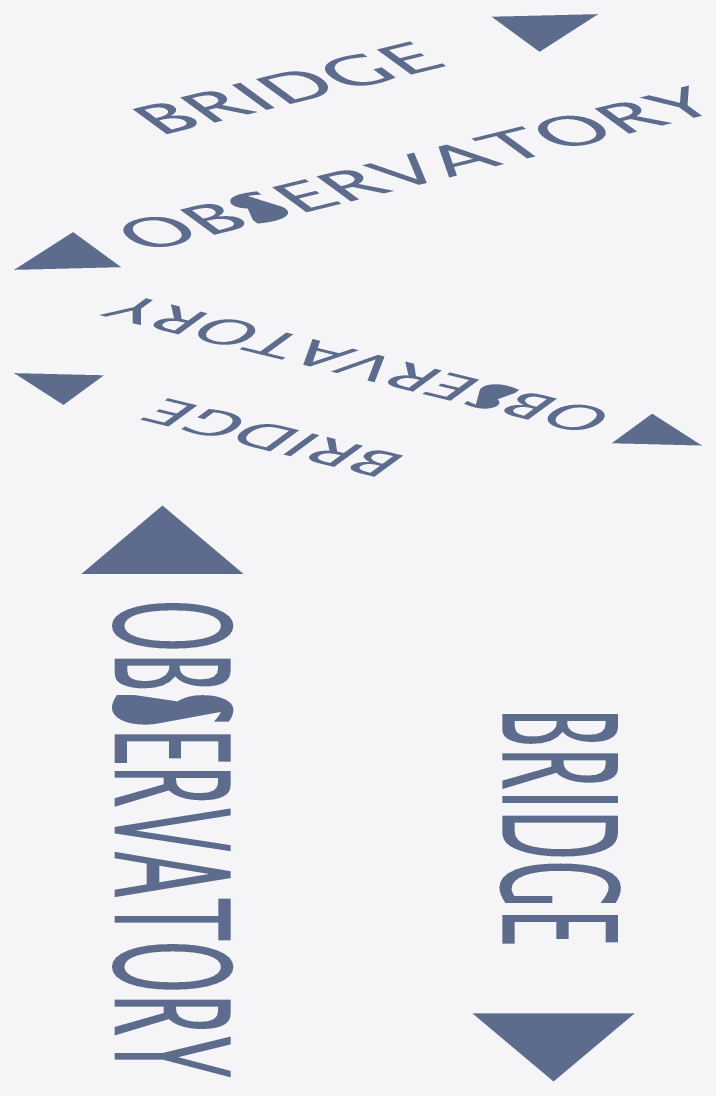
File: Bridge_Observatory.fbx
3 renders of one model, top to bottom at view 1: azimuth 30°, elevation 25°; view 2: azimuth 150°, elevation 25°; view 3: azimuth 270°, elevation 25°, orthographic. The views are drawn at different scales.
Parts seen in each view (by area): view 1: Bridge_Observatory; view 2: Bridge_Observatory; view 3: Bridge_Observatory.
Boxes of the visible parts, left/top/right/bottom form: Bridge_Observatory: left=14, top=14, right=701, bottom=269; Bridge_Observatory: left=14, top=298, right=701, bottom=476; Bridge_Observatory: left=82, top=505, right=634, bottom=1081.
Size of the model in its own units: 1211 by 4.77e-07 by 492.
